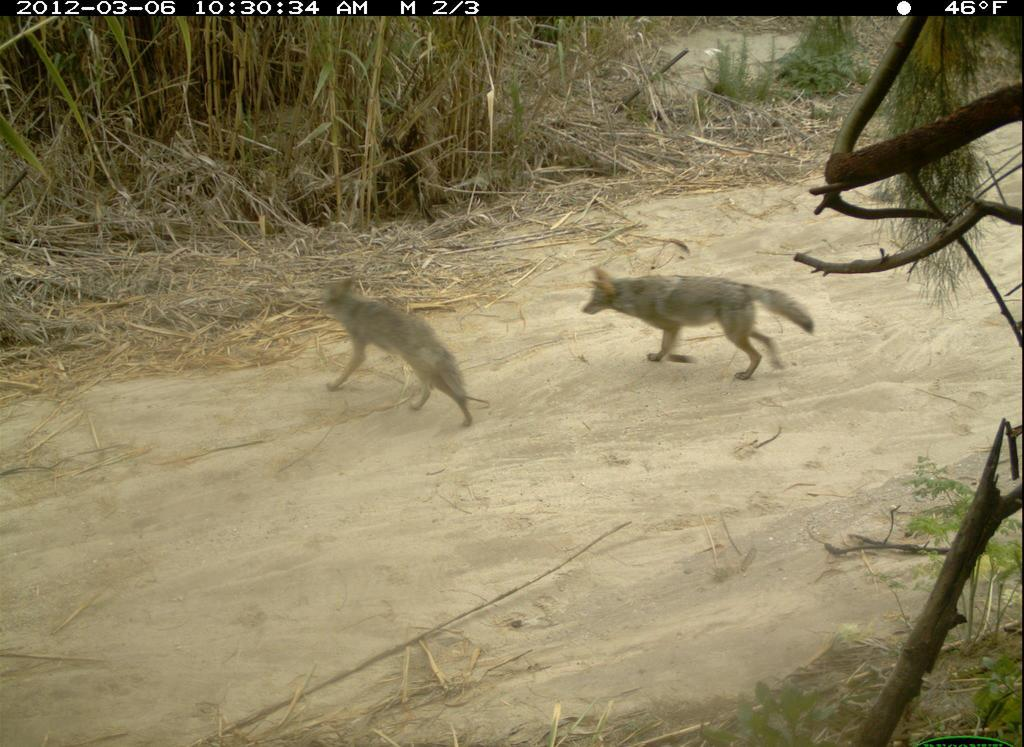coyote: (578, 260, 802, 395), (315, 268, 491, 432)
